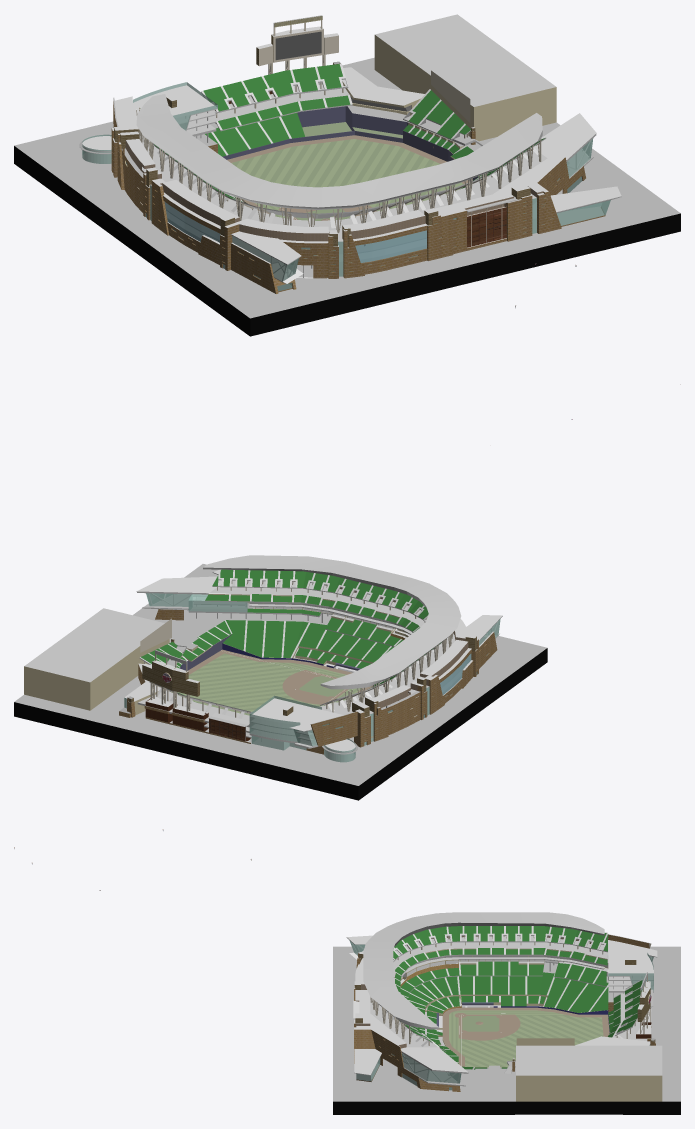
Rendered from TargetField2.glb.
The picture shows the model from 3 angles, top to bottom: view 1: azimuth 30°, elevation 25°; view 2: azimuth 150°, elevation 25°; view 3: azimuth 270°, elevation 25°; orthographic projection. The views are drawn at different scales.
Visible parts, largest first — view 1: Target Field v1.0; view 2: Target Field v1.0; view 3: Target Field v1.0.
Boxes of the visible parts, box(x1,y1,x2,y2) form: Target Field v1.0: box(14, 14, 680, 336); Target Field v1.0: box(14, 555, 547, 800); Target Field v1.0: box(333, 912, 680, 1114).
Size of what is drawn, in the model's own units: 259 by 114 by 470.
Materials: 82 (19 with a texture image).
